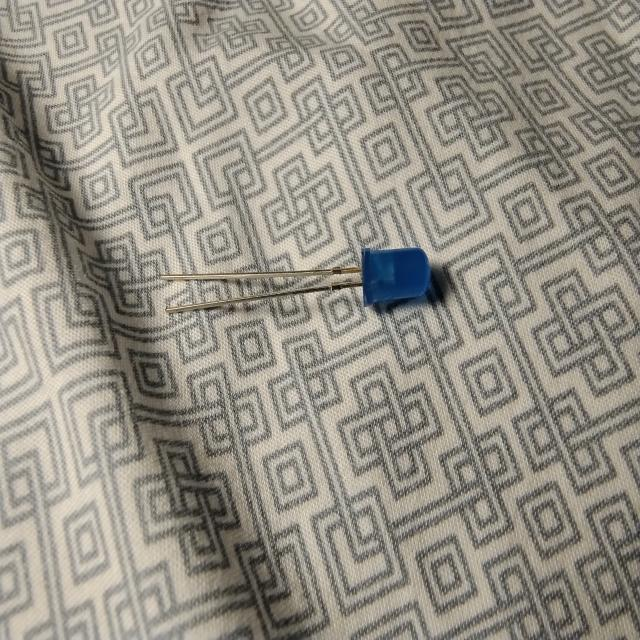blue_led: (147, 237, 436, 329)
